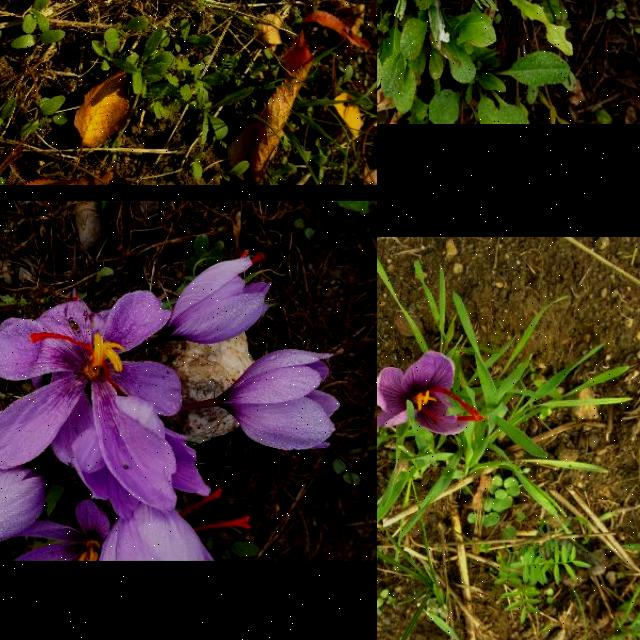flower: (0, 290, 184, 514), (214, 349, 342, 451), (170, 248, 274, 346), (377, 352, 485, 436), (0, 469, 55, 546)
overlap: (0, 247, 343, 560)
